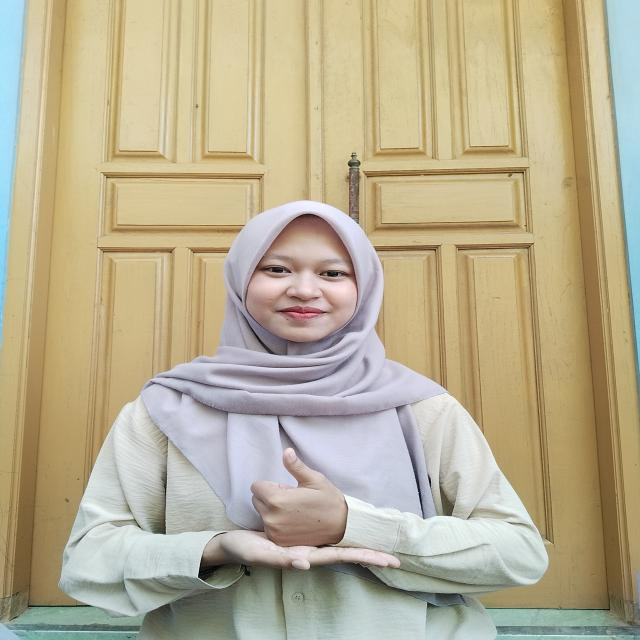cantik: (175, 444, 410, 577)
